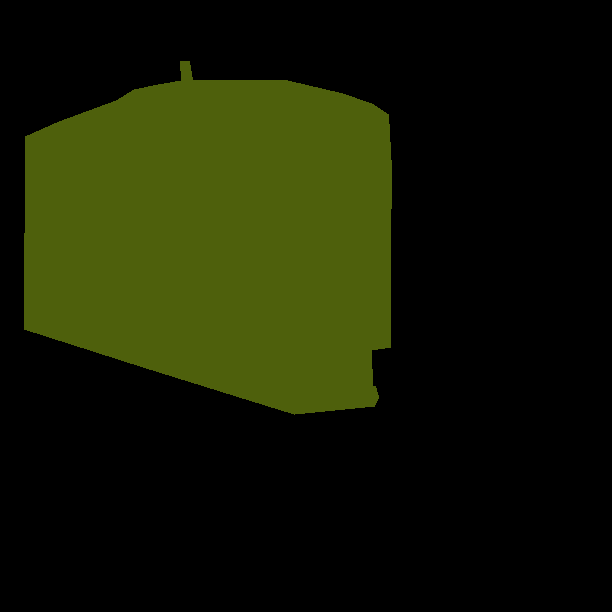Train: (24, 61, 392, 415)
